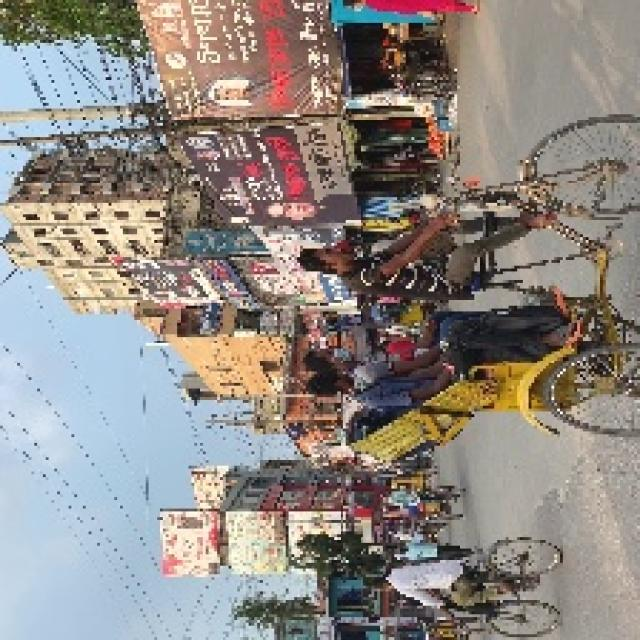rickshaw: (332, 103, 629, 466), (371, 483, 474, 524)
